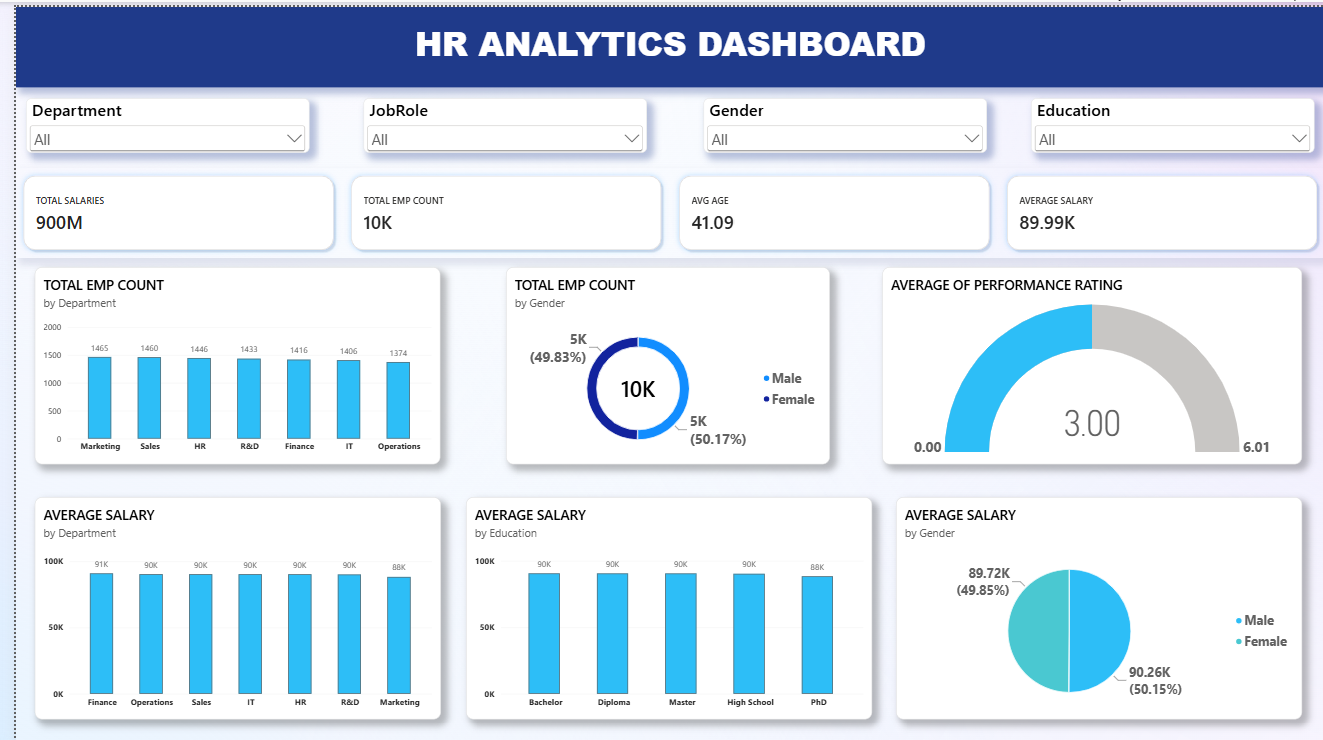

Layout of this report page (visuals, bound fields, positions):
{"tool":"powerbi","page":{"name":"Page 1","canvas":[1920,1080],"ordinal":0},"visuals":[{"type":"textbox","box":[0,0,1920.5,117.4],"z":0},{"type":"slicer","fields":{"Values":["Employee_Data.Department"]},"box":[14.4,133.8,415.8,80.3],"z":1000},{"type":"slicer","fields":{"Values":["Employee_Data.JobRole"]},"box":[510.5,133.8,415.8,80.3],"z":2000},{"type":"slicer","fields":{"Values":["Employee_Data.Gender"]},"box":[1008.6,133.8,415.8,80.3],"z":3000},{"type":"slicer","fields":{"Values":["Employee_Data.Education"]},"box":[1490.2,133.8,415.8,80.3],"z":4000},{"type":"cardVisual","fields":{"Data":["Employee_Data.TOTAL SALARIES","Employee_Data.TOTAL EMP COUNT","Employee_Data.AVG AGE","Employee_Data.AVERAGE SALARY"]},"box":[0,236.6,1920.4,131.7],"z":5000},{"type":"columnChart","fields":{"Category":["Employee_Data.Department"],"Y":["Employee_Data.TOTAL EMP COUNT"]},"box":[27.5,381.5,595.4,289.5],"z":6000},{"type":"clusteredColumnChart","fields":{"Category":["Employee_Data.Department"],"Y":["Employee_Data.AVERAGE SALARY"]},"box":[27.5,719,596.1,326.5],"z":7000},{"type":"donutChart","fields":{"Category":["Employee_Data.Gender"],"Y":["Employee_Data.TOTAL EMP COUNT"]},"box":[719,381.5,475.1,289.8],"z":8000},{"type":"gauge","fields":{"Y":["Avg(Employee_Data.PerformanceRating)"]},"box":[1271.1,381.5,616.3,289.8],"z":9000},{"type":"clusteredColumnChart","fields":{"Category":["Employee_Data.Education"],"Y":["Employee_Data.AVERAGE SALARY"]},"box":[660.3,719,596.1,326.5],"z":10000},{"type":"pieChart","fields":{"Category":["Employee_Data.Gender"],"Y":["Employee_Data.AVERAGE SALARY"]},"box":[1291.3,719,596.1,326.5],"z":11000}]}

Visuals, with their boxes in screenshot pixels (x1, y1, x2, y2), scaled from the page's 1920x1080 canvas onto the 1323x740 screenshot:
textbox: region(0, 0, 1322, 80)
slicer - Employee_Data.Department: region(10, 92, 296, 147)
slicer - Employee_Data.JobRole: region(352, 92, 638, 147)
slicer - Employee_Data.Gender: region(695, 92, 982, 147)
slicer - Employee_Data.Education: region(1027, 92, 1313, 147)
cardVisual - Employee_Data.TOTAL SALARIES x Employee_Data.TOTAL EMP COUNT: region(0, 162, 1322, 252)
columnChart - Employee_Data.Department x Employee_Data.TOTAL EMP COUNT: region(19, 261, 429, 460)
clusteredColumnChart - Employee_Data.Department x Employee_Data.AVERAGE SALARY: region(19, 493, 430, 716)
donutChart - Employee_Data.Gender x Employee_Data.TOTAL EMP COUNT: region(495, 261, 823, 460)
gauge - Avg(Employee_Data.PerformanceRating): region(876, 261, 1301, 460)
clusteredColumnChart - Employee_Data.Education x Employee_Data.AVERAGE SALARY: region(455, 493, 866, 716)
pieChart - Employee_Data.Gender x Employee_Data.AVERAGE SALARY: region(890, 493, 1301, 716)
